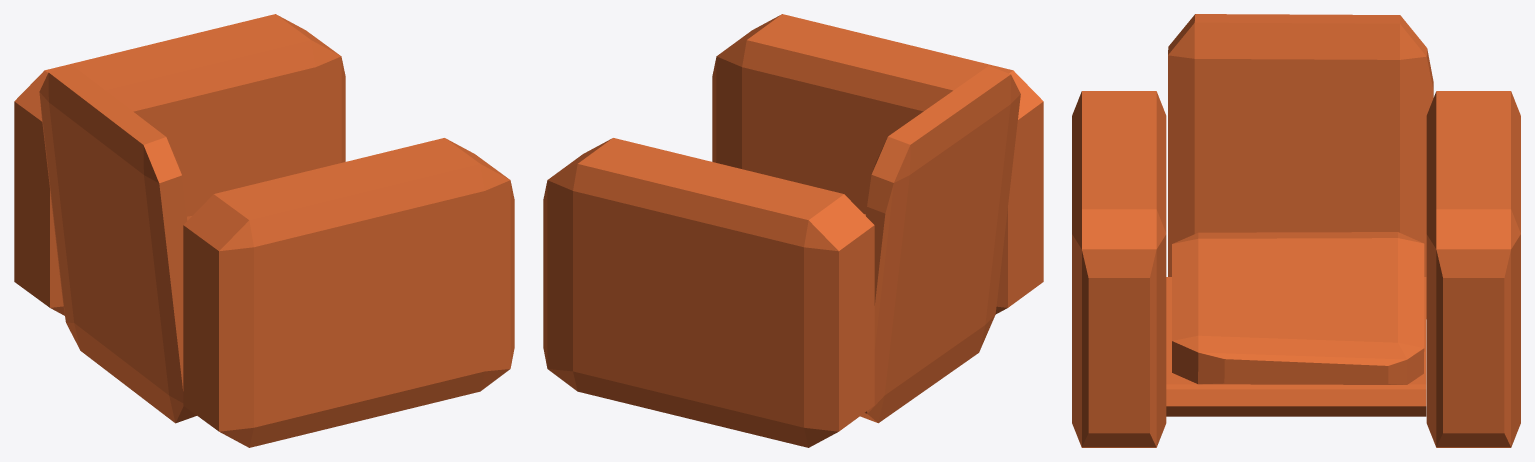
File: armchair.fbx
3 views of the same model, side by side, from view 1: azimuth 30°, elevation 25°; view 2: azimuth 150°, elevation 25°; view 3: azimuth 270°, elevation 25° (orthographic). The views are drawn at different scales.
Visible parts, largest first — view 1: armchair; view 2: armchair; view 3: armchair.
Boxes of the visible parts, <box> form: armchair: <box>14,14,514,447</box>; armchair: <box>543,14,1043,447</box>; armchair: <box>1072,14,1520,447</box>.
Size of the model in its own units: 294 by 254 by 341.
